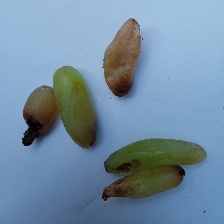grapes: (5, 1, 179, 201)
